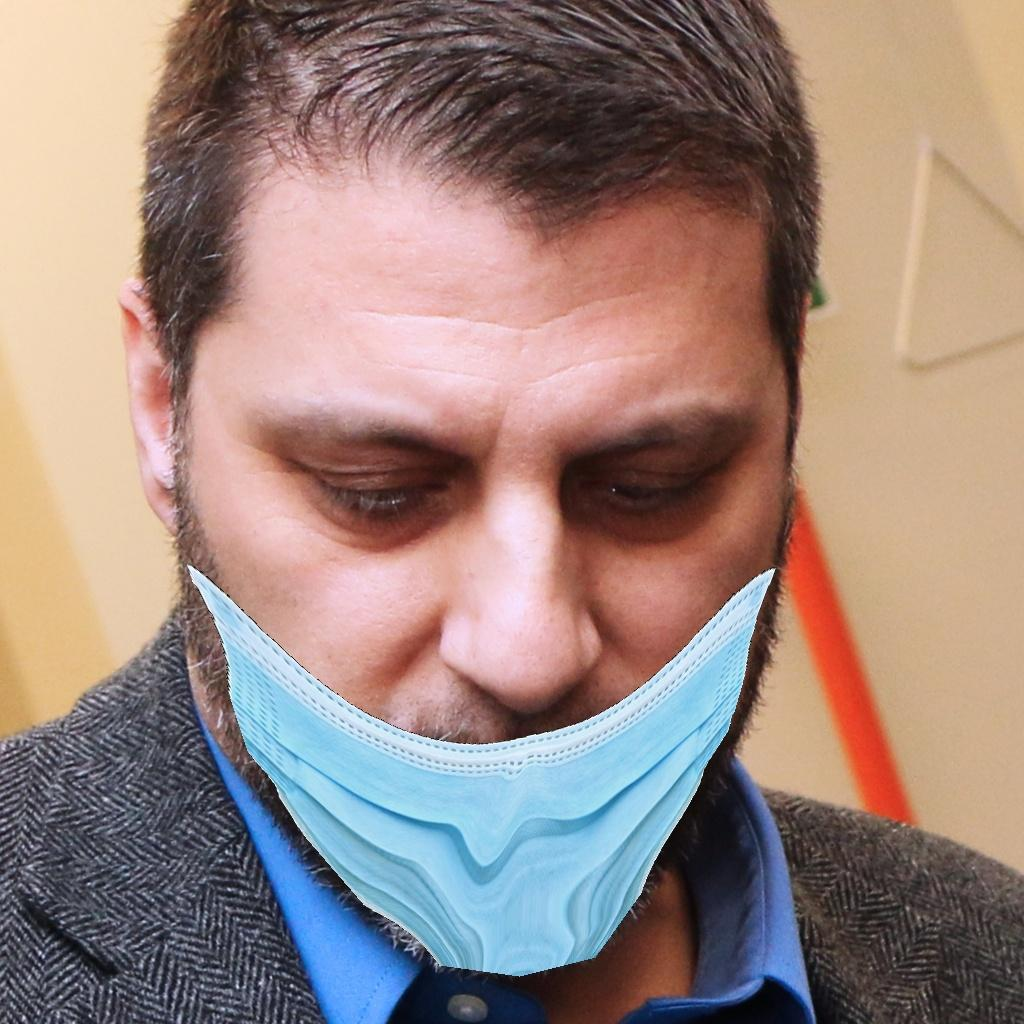Máscara Incorreta: (185, 235, 790, 961)
